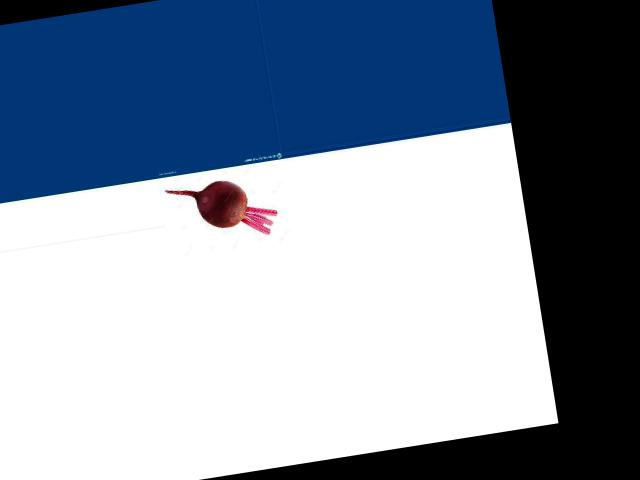beet: (165, 173, 279, 248)
